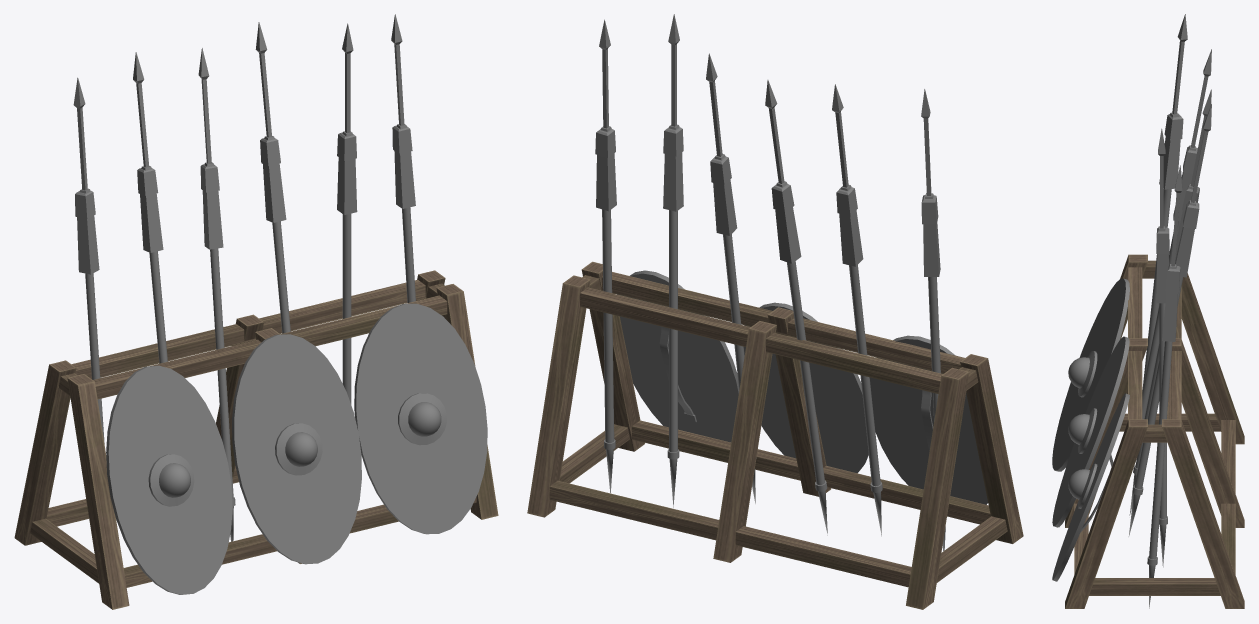
Rendered from SM_weaponstand_preset_02.fbx.
3 views of the same model, side by side, from view 1: azimuth 30°, elevation 25°; view 2: azimuth 150°, elevation 25°; view 3: azimuth 270°, elevation 25° (orthographic). The views are drawn at different scales.
Visible parts, largest first — view 1: Object32629; view 2: Object32629; view 3: Object32629.
Part boxes in pixels (x1,y1,x2,y2): Object32629: (14, 14, 498, 609); Object32629: (527, 14, 1023, 609); Object32629: (1052, 14, 1244, 608).
Bounding box in the file's own units: 84.53 × 103 × 39.93.
